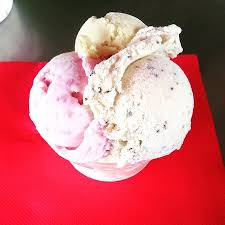ice-cream: (79, 14, 194, 159), (31, 53, 111, 161)
